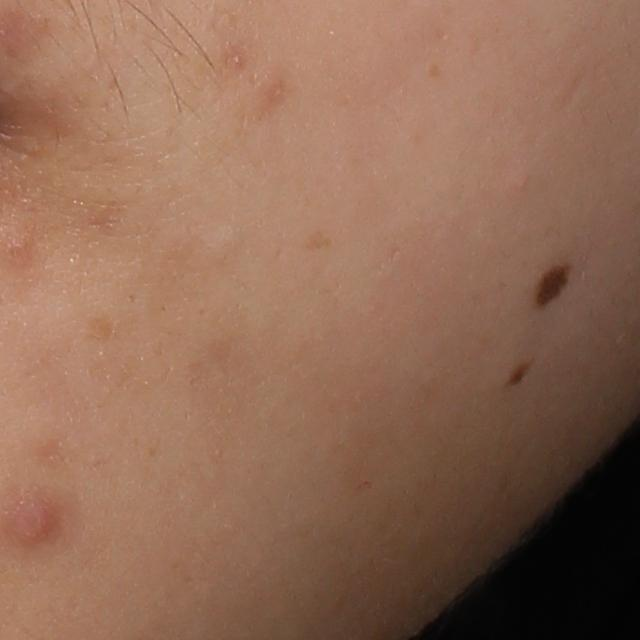comedo: (513, 169, 536, 196)
nevus: (533, 265, 571, 312), (502, 360, 535, 391)
papule: (10, 498, 68, 547)
